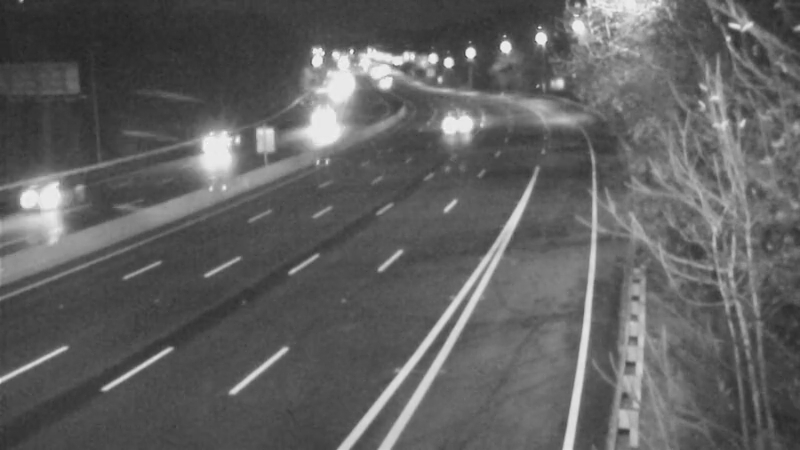vehicle: (179, 114, 259, 194), (1, 156, 80, 236), (425, 94, 475, 144), (300, 108, 350, 158)
